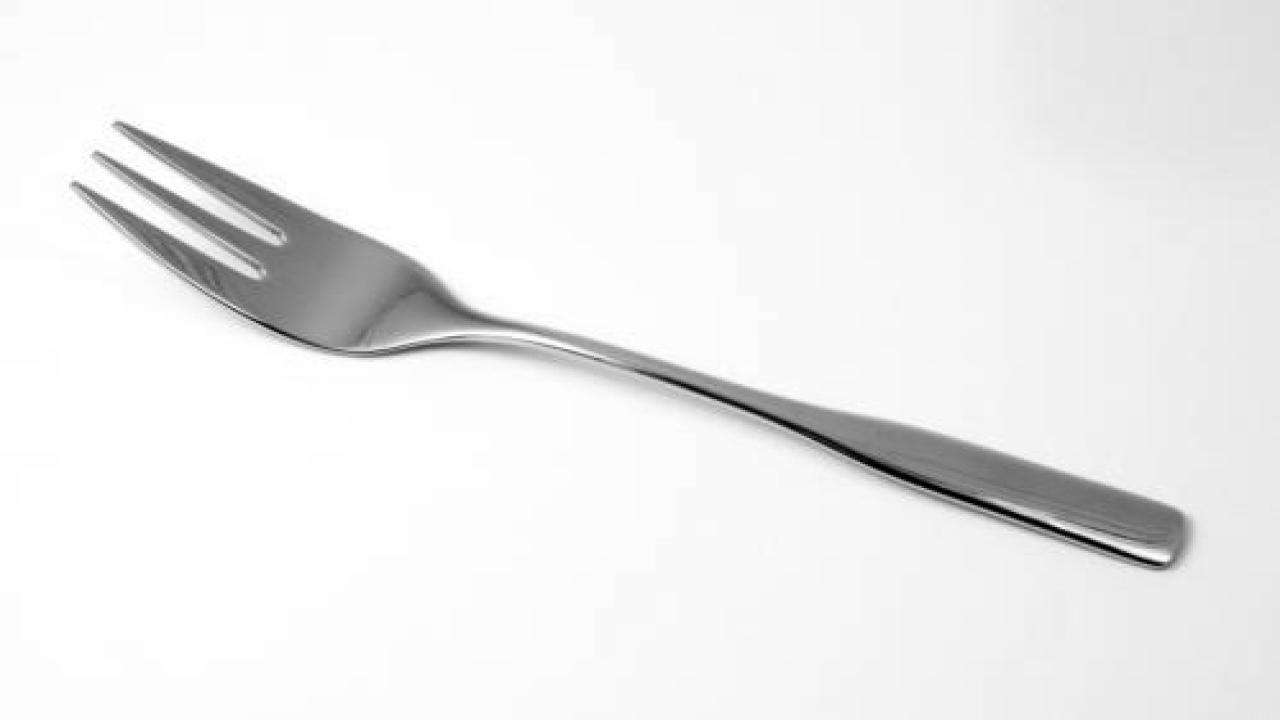fork: (66, 117, 1188, 568)
